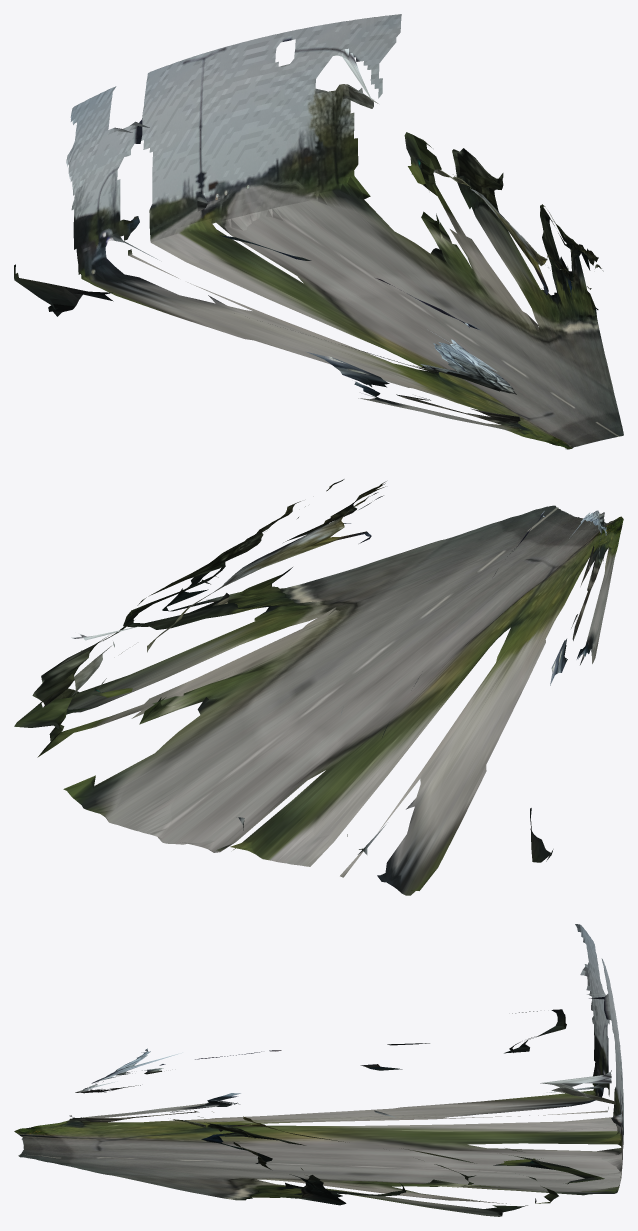
3 renders of one model, top to bottom at view 1: azimuth 30°, elevation 25°; view 2: azimuth 150°, elevation 25°; view 3: azimuth 270°, elevation 25°, orthographic. The views are drawn at different scales.
Visible parts, largest first — view 1: defaultobject; view 2: defaultobject; view 3: defaultobject.
Boxes of the visible parts, x1,y1,x2,y2 form: defaultobject: [14, 14, 623, 449]; defaultobject: [14, 479, 623, 895]; defaultobject: [14, 924, 623, 1216].
Bounding box in the file's own units: 33.12 × 13.81 × 45.12.
Materials: 1 (1 with a texture image).
